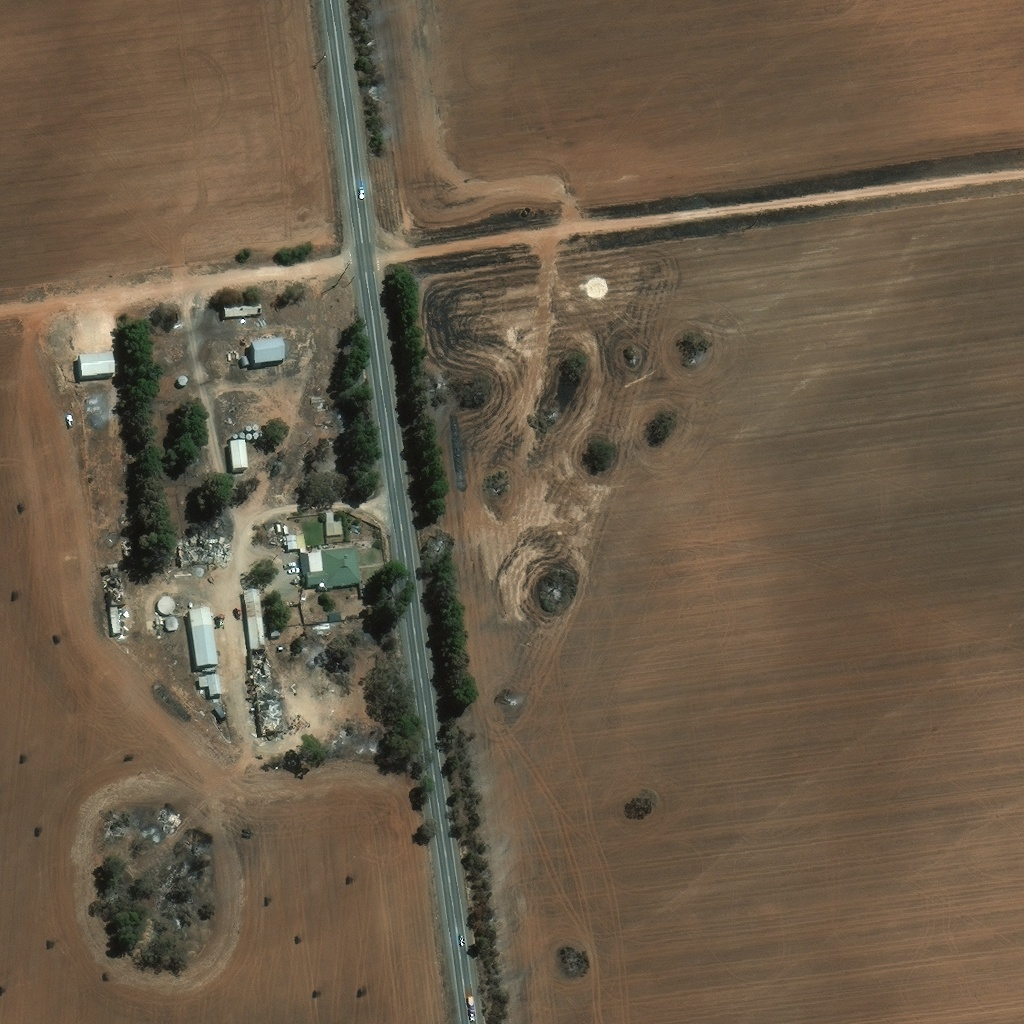0 no-damage: (299, 547, 362, 587), (189, 608, 219, 667), (79, 349, 116, 375), (252, 337, 285, 364), (231, 439, 250, 468), (199, 673, 224, 695), (225, 301, 263, 314), (326, 511, 344, 534), (159, 594, 178, 613), (213, 702, 227, 718), (165, 615, 180, 628), (286, 534, 299, 548), (297, 534, 306, 551), (179, 372, 190, 383), (328, 610, 343, 618), (242, 353, 251, 364), (155, 618, 165, 627), (283, 522, 292, 531), (271, 630, 282, 637), (245, 425, 252, 432), (253, 431, 260, 438), (246, 432, 253, 439), (253, 425, 260, 431), (232, 433, 239, 439), (240, 432, 246, 439), (278, 522, 283, 529), (295, 529, 301, 534), (320, 584, 325, 589)
2 major-damage: (244, 586, 284, 733), (107, 562, 127, 632)
3 destroyed: (180, 532, 231, 562), (312, 392, 329, 409), (123, 537, 135, 552), (121, 509, 132, 522), (171, 809, 183, 820), (161, 806, 169, 817)
4 un-classified: (331, 352, 338, 361)
